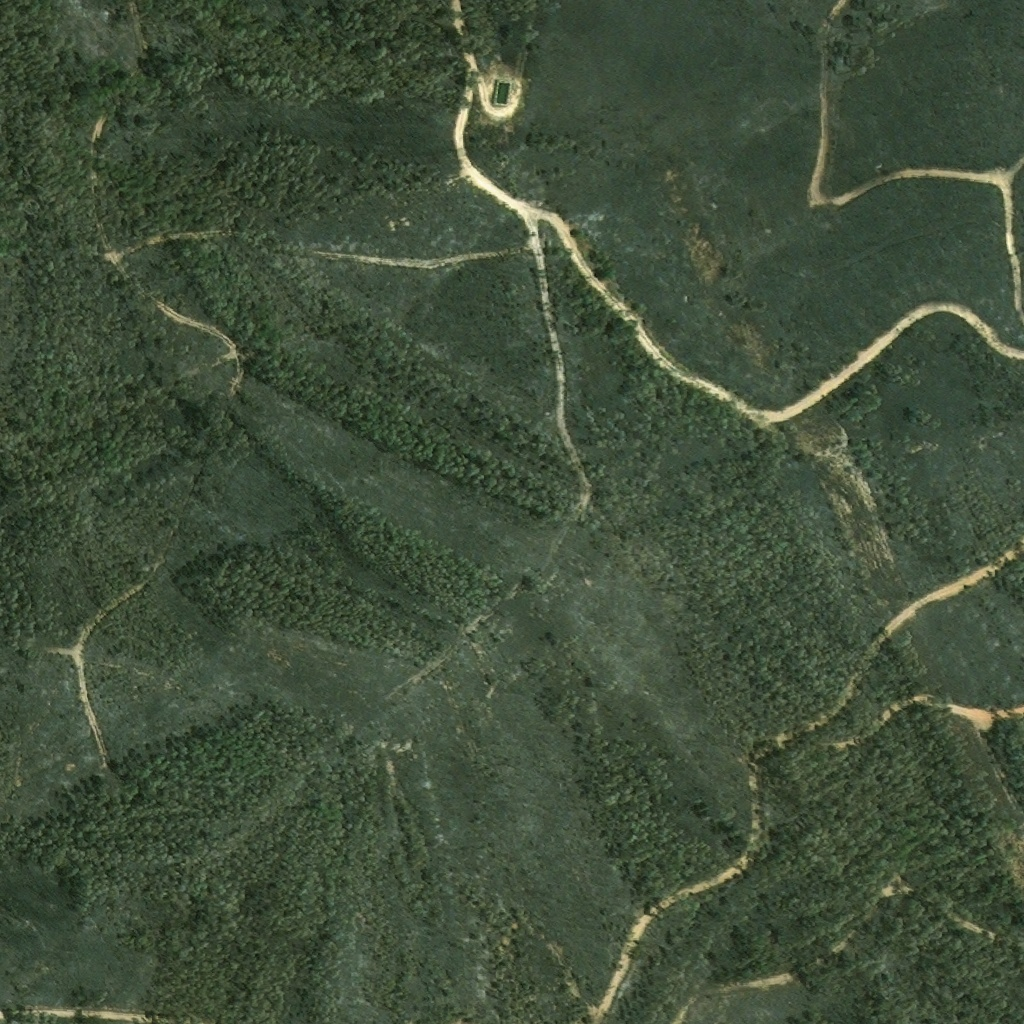0 no-damage: (493, 80, 510, 106)
